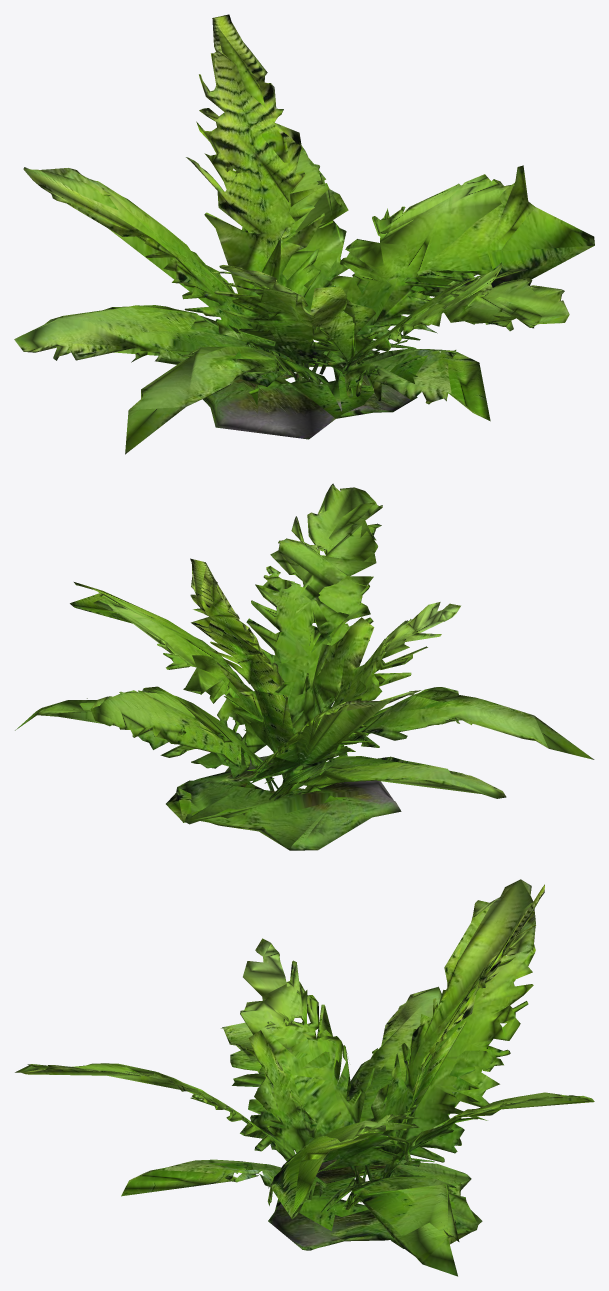
Rendered from Fern-2.glb.
3 views of the same model, one above another, from view 1: azimuth 30°, elevation 25°; view 2: azimuth 150°, elevation 25°; view 3: azimuth 270°, elevation 25° (orthographic). The views are drawn at different scales.
Parts seen in each view (by area): view 1: vibrant_upright_fern.001; view 2: vibrant_upright_fern.001; view 3: vibrant_upright_fern.001.
Part boxes in pixels (bbox=[...]): vibrant_upright_fern.001: bbox=[14, 14, 594, 454]; vibrant_upright_fern.001: bbox=[15, 483, 594, 850]; vibrant_upright_fern.001: bbox=[15, 879, 594, 1276].
Bounding box in the file's own units: 0.8396 × 0.4931 × 0.8044.
1 material, 1 textured.
